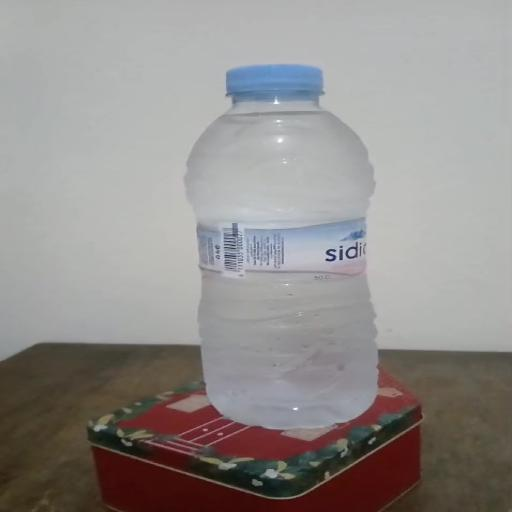bouteille conformite: (183, 58, 377, 429)
